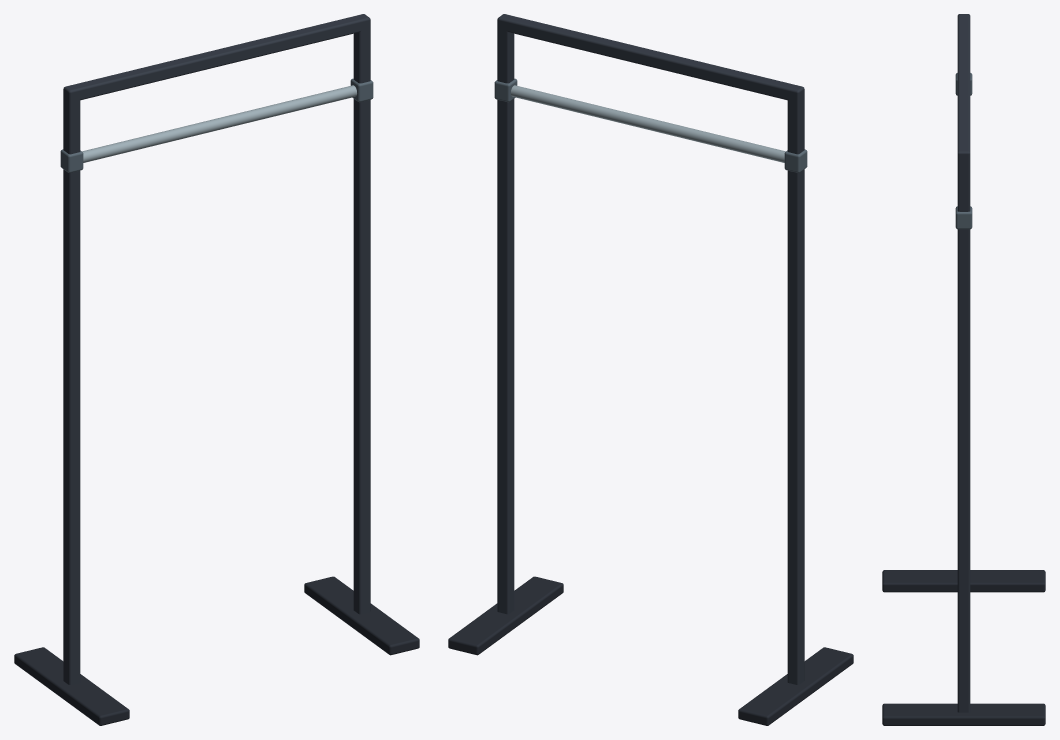
3 renders of one model, left to right at view 1: azimuth 30°, elevation 25°; view 2: azimuth 150°, elevation 25°; view 3: azimuth 270°, elevation 25°, orthographic. The views are drawn at different scales.
Parts seen in each view (by area): view 1: rack-frame, rack-foot-pads, garment-rail, rack-rail-bosses; view 2: rack-frame, rack-foot-pads, garment-rail, rack-rail-bosses; view 3: rack-frame, rack-foot-pads, rack-rail-bosses.
Boxes of the visible parts, <box> form: rack-frame: <box>63,14,370,684</box>; rack-foot-pads: <box>14,576,419,725</box>; garment-rail: <box>82,85,356,162</box>; rack-rail-bosses: <box>60,78,373,172</box>; rack-frame: <box>497,14,804,684</box>; rack-foot-pads: <box>448,576,853,725</box>; garment-rail: <box>511,85,785,162</box>; rack-rail-bosses: <box>494,78,807,172</box>; rack-frame: <box>957,14,970,712</box>; rack-foot-pads: <box>882,570,1045,725</box>; rack-rail-bosses: <box>955,73,972,229</box>.
Bounding box in the file's own units: 0.947 × 1.7 × 0.442.
